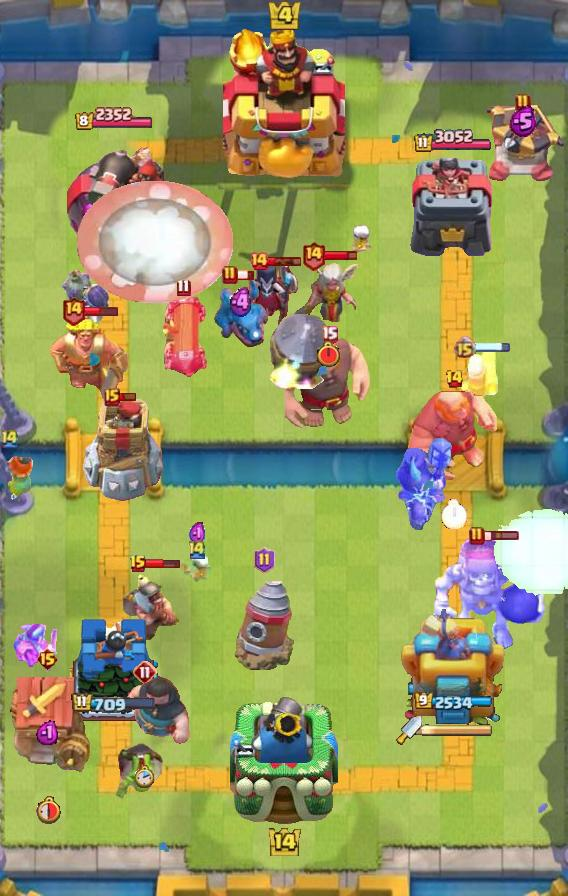balloon: (407, 380, 501, 482), (285, 334, 373, 432)
bandit: (120, 569, 184, 643)
bar: (401, 601, 505, 731)
bar-level: (115, 740, 165, 800)
battle-healer: (156, 297, 210, 379)
electro-giant: (431, 534, 549, 652)
electro-spirit: (509, 106, 537, 139), (227, 287, 256, 318), (36, 719, 58, 745), (190, 521, 207, 547)
elixir: (441, 499, 467, 529), (35, 796, 61, 825), (316, 340, 341, 367), (135, 765, 155, 789)
emote: (323, 249, 358, 262), (473, 341, 510, 353), (484, 530, 521, 542), (84, 305, 119, 317), (266, 257, 302, 268), (145, 558, 181, 569), (235, 269, 255, 281), (117, 390, 137, 401)
giant-snowball: (12, 623, 60, 675)
goblin-ball: (59, 264, 113, 326)
goblin-hut: (48, 316, 130, 402)
graveyard: (212, 275, 270, 349)
heal-spirit: (180, 553, 214, 585), (348, 223, 378, 257)
hog-rider: (0, 451, 38, 503)
inferno-dragon: (395, 436, 453, 530)
king-tower: (223, 27, 345, 181), (230, 692, 338, 826)
king-tower-bar: (422, 723, 494, 737)
lava-pup: (482, 105, 564, 185)
magic-archer: (231, 576, 297, 674)
mega-knight: (492, 508, 568, 601)
poison: (284, 255, 372, 329)
queen-tower: (70, 616, 158, 731), (409, 158, 500, 256)
rascal-boy: (244, 258, 300, 334)
royal-hog: (100, 674, 190, 748)
selected: (74, 108, 154, 133), (413, 129, 493, 154), (71, 692, 157, 715), (414, 692, 494, 712)
sparky: (4, 676, 90, 774)
text: (302, 240, 327, 271), (62, 294, 87, 325), (133, 660, 157, 684), (452, 336, 475, 360), (36, 647, 59, 671), (254, 547, 275, 573), (0, 427, 20, 448), (187, 539, 207, 560), (249, 251, 269, 271), (445, 369, 464, 389), (129, 554, 147, 574), (321, 325, 339, 343), (515, 93, 531, 113), (222, 265, 238, 285), (469, 526, 485, 546), (104, 388, 120, 406), (177, 279, 192, 298)
tombstone: (458, 344, 500, 402)
tower-bar: (63, 136, 165, 256)
wall-breaker: (78, 181, 234, 303)
x-bow: (271, 311, 333, 389)
zappy: (81, 397, 163, 503)
